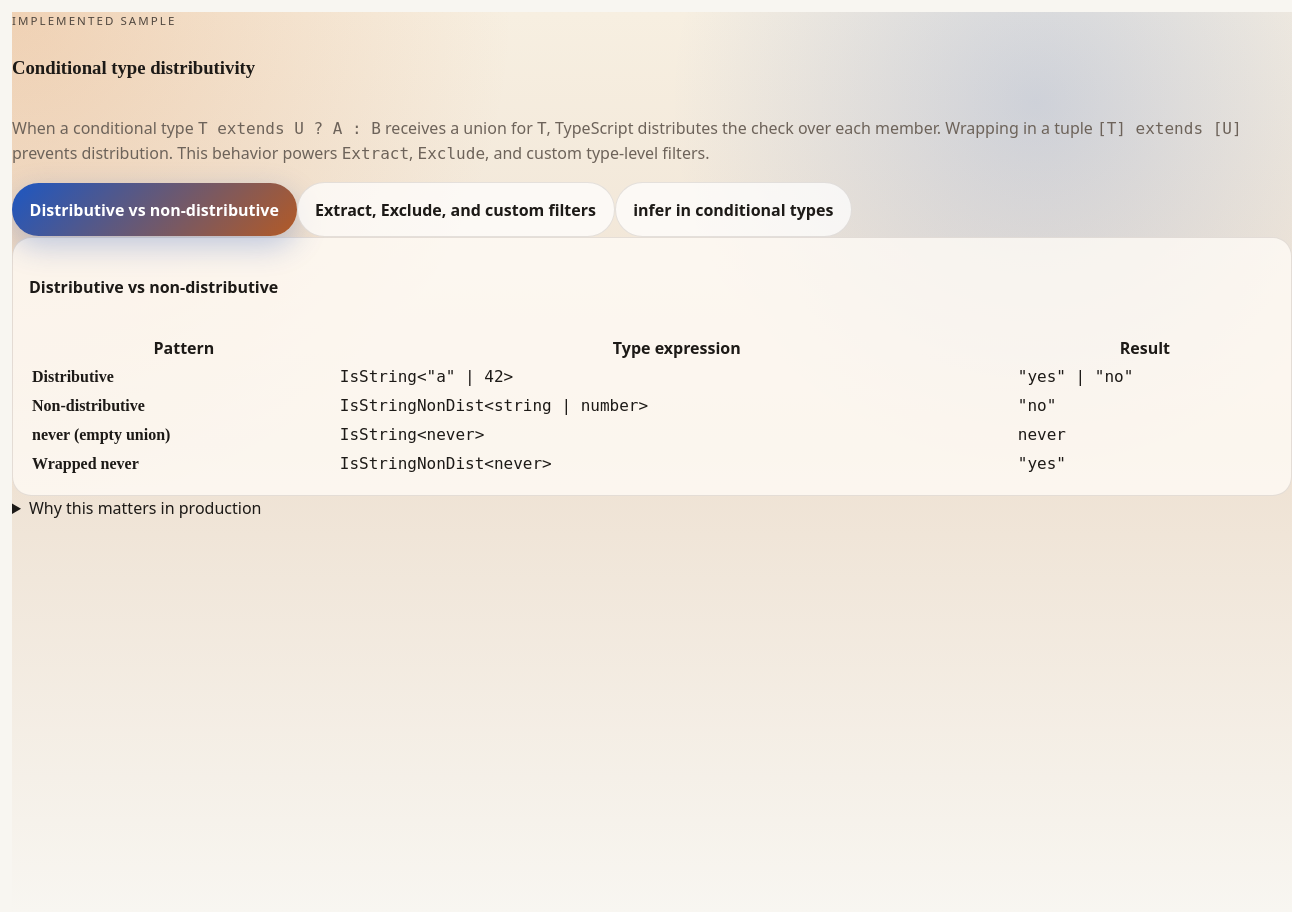
Scenario: conditional distributivity sample › switches between the filter and infer sections
This screenshot has width=1292, height=912.
Click the button "Extract, Exclude, and custom filters".
click(456, 210)  # box [296,182,615,237]
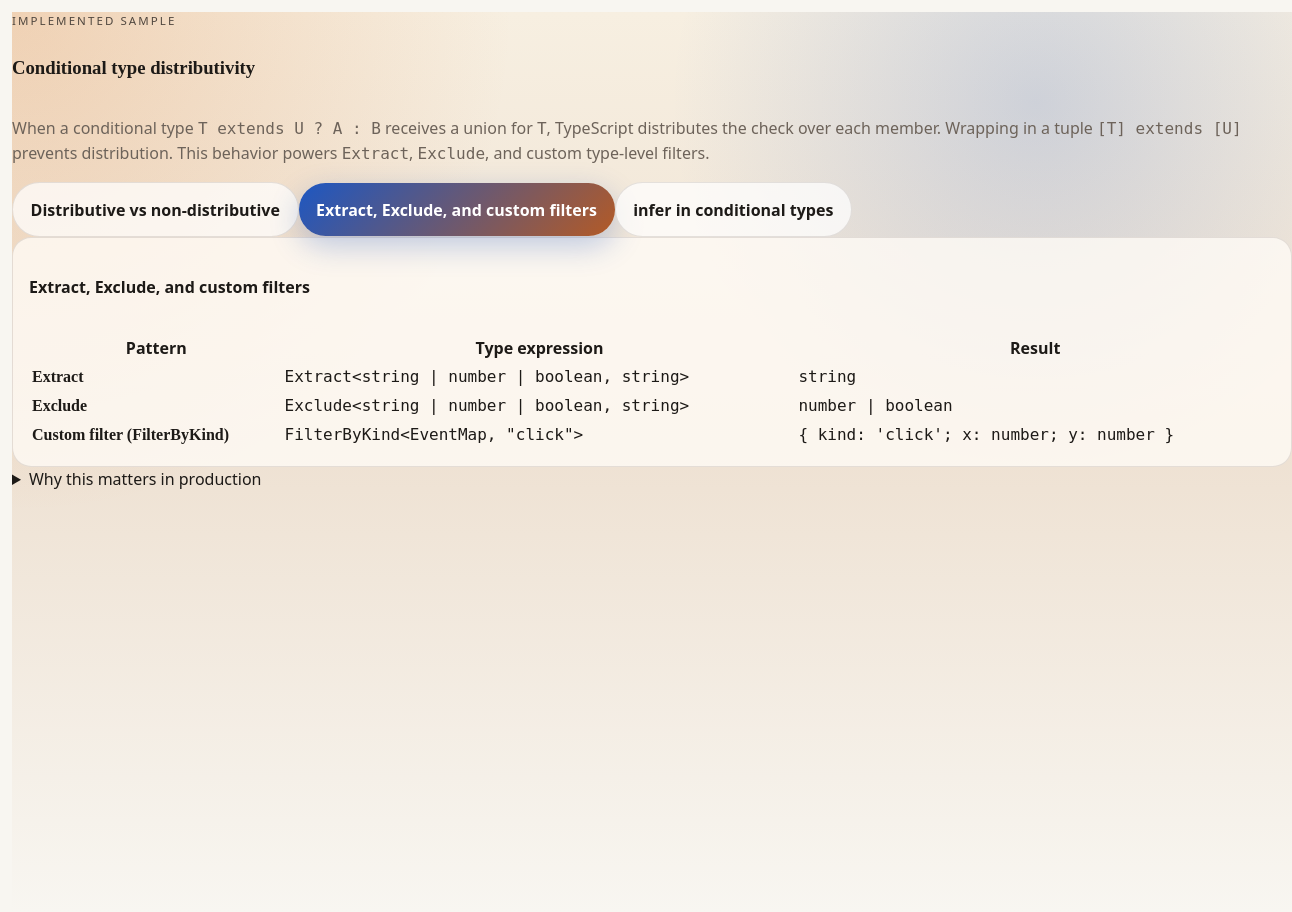
Expected: the heading "Extract, Exclude, and custom filters" is shown, [29,276,310,298]
Expected: the text "FilterByKind<EventMap, \"click\">" is shown, [285,426,583,444]
Expected: the text "{ kind: 'click'; x: number; y: number }" is shown, [798,426,1174,444]
Click the button "infer in conditional types".
click(733, 210)  # box [615,182,852,237]
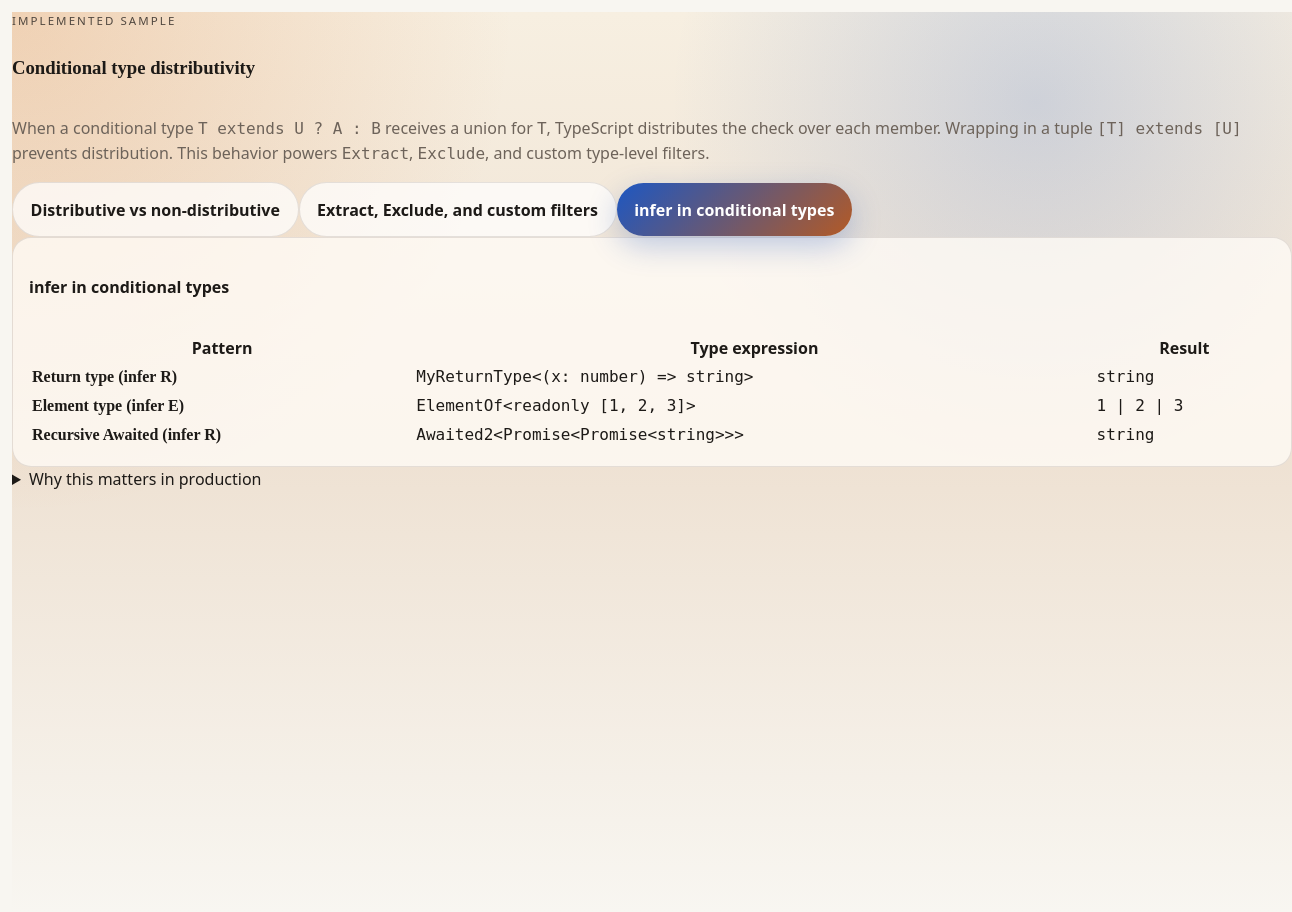
Expected: the heading "infer in conditional types" is shown, [29,276,229,298]
Expected: the text "Awaited2<Promise<Promise<string>>>" is shown, [416,426,744,444]
Expected: the text "1 | 2 | 3" is shown, [1097,396,1183,416]
